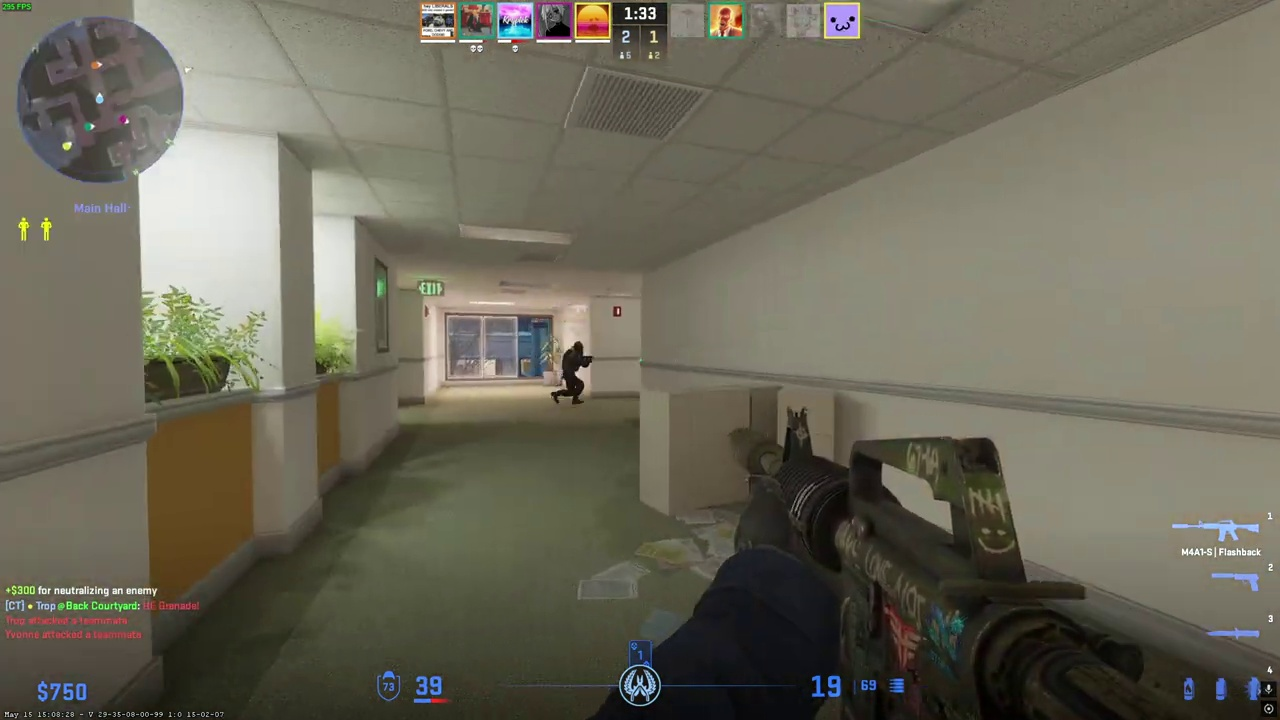CT: (557, 340, 589, 405)
